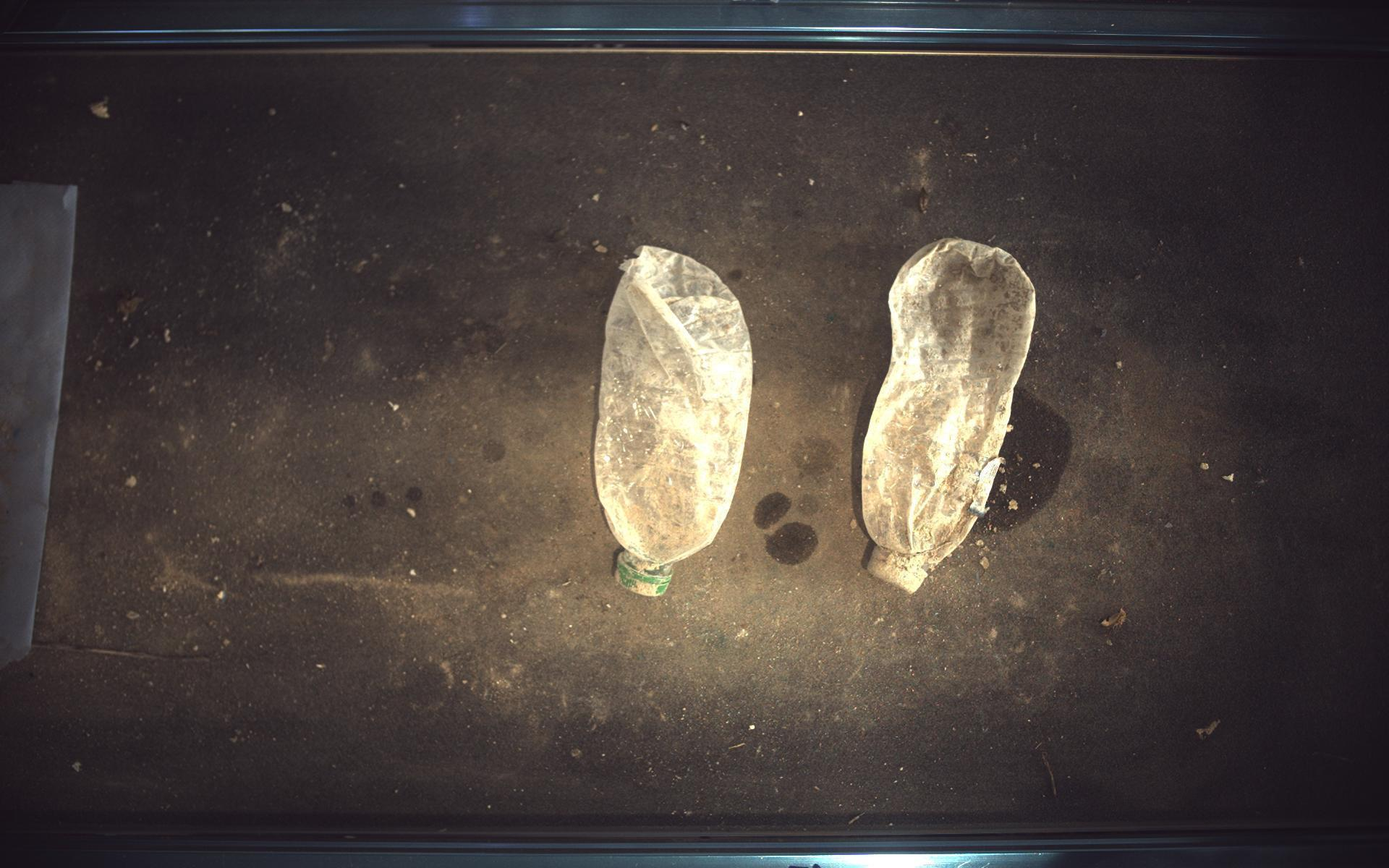general_w: (864, 238, 1037, 592), (595, 245, 754, 597)
